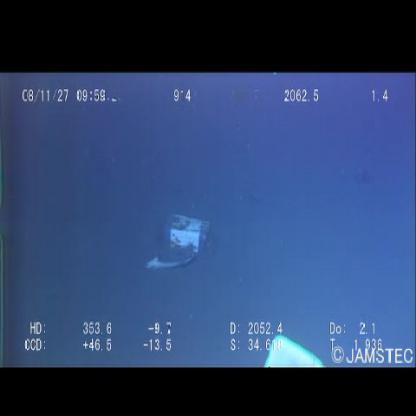Rác: (146, 214, 210, 270)
